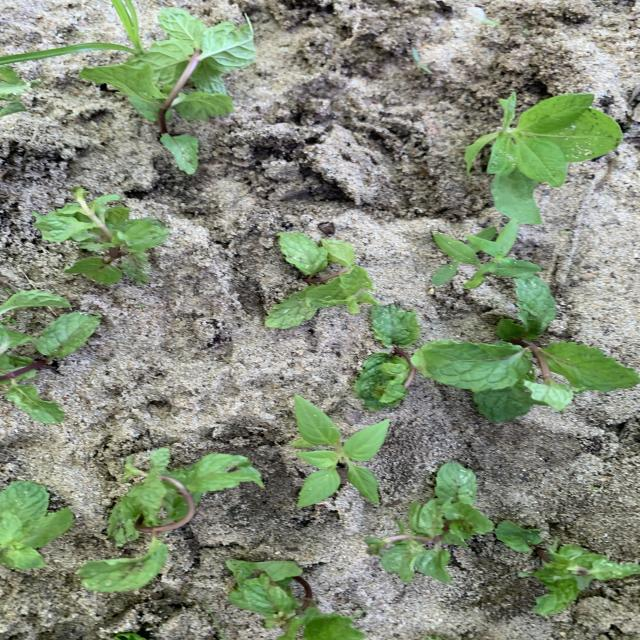crop: (355, 276, 640, 423), (83, 9, 255, 173), (78, 448, 264, 592), (366, 464, 492, 582), (495, 521, 638, 613), (32, 187, 169, 283), (2, 311, 101, 422), (226, 561, 366, 639), (267, 233, 377, 327), (1, 482, 73, 569)
weed: (464, 92, 622, 224), (291, 396, 389, 507), (0, 0, 143, 65), (431, 219, 541, 289), (199, 599, 226, 639), (353, 606, 371, 618)
